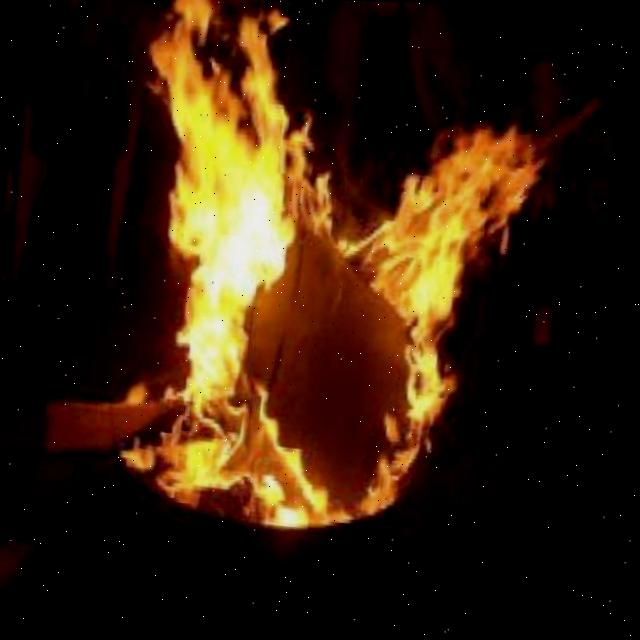fire: (79, 0, 538, 536)
